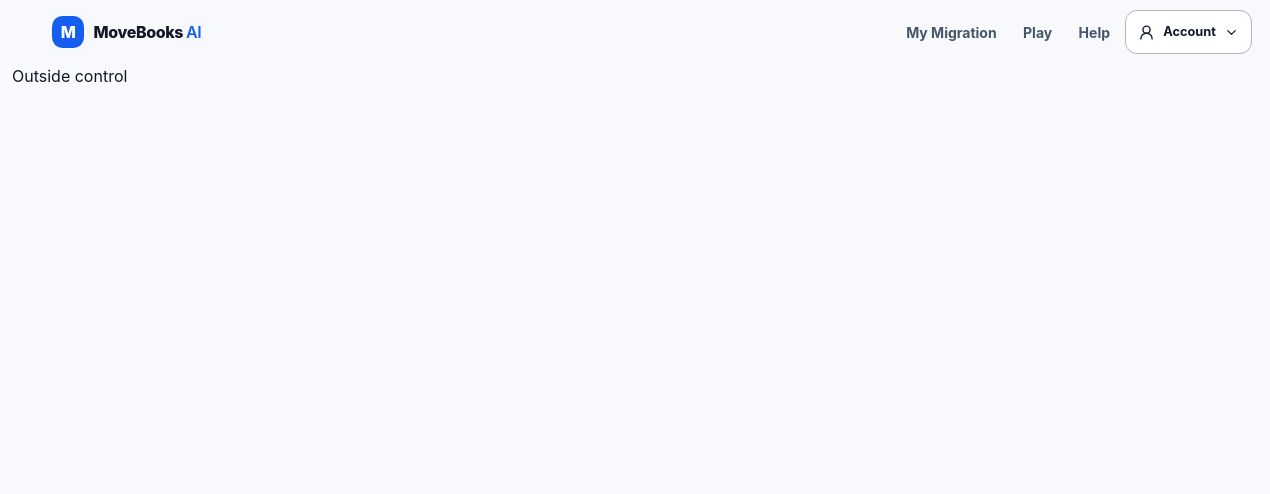
Scenario: global account and settings shell › uses verified identity only and keeps sign-out inside the disclosure
Check: the button "Settings" is not shown
Check: the button "Sign Out" is not shown
What coordinates should you click on to do the following:
click the button with aria-label "Account:"
I would click on:
 (1189, 32)
Its box is [1125,10,1252,54].
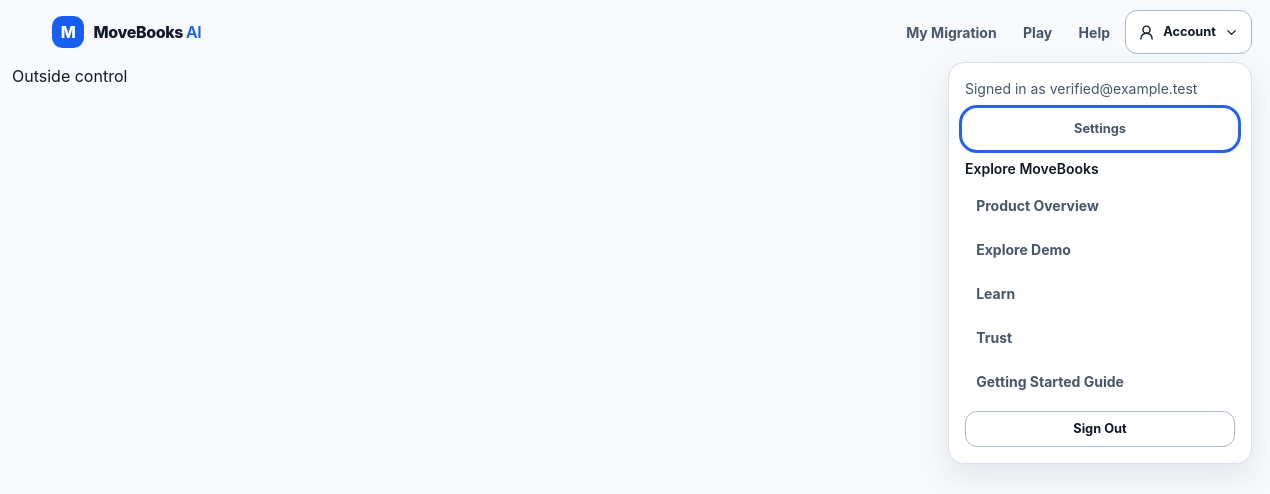
Check: the number of buttons "Settings" is 1, box [965,111,1235,147]
Check: the message reads "Signed in as verified@example.test", box [965,80,1197,97]
Check: the button "Sign Out" is enabled, box [965,411,1235,447]
